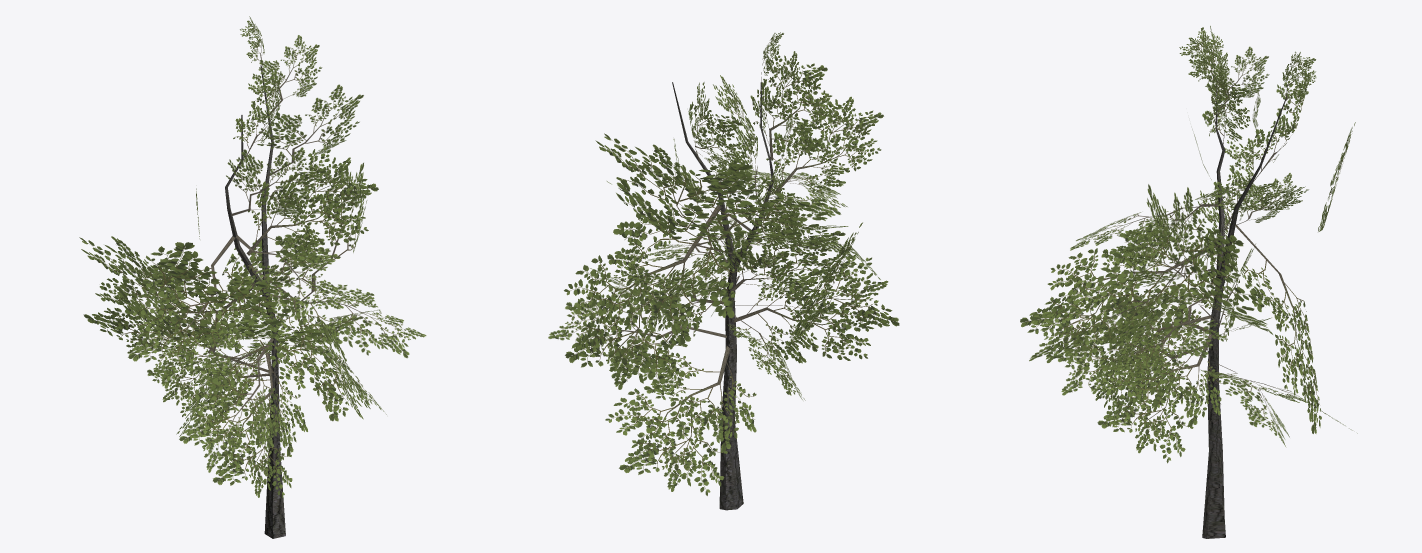
File: tree-07.glb
The picture shows the model from 3 angles, left to right: view 1: azimuth 30°, elevation 25°; view 2: azimuth 150°, elevation 25°; view 3: azimuth 270°, elevation 25°; orthographic projection. The views are drawn at different scales.
Visible parts, largest first — view 1: Tree-02-3; view 2: Tree-02-3; view 3: Tree-02-3.
Boxes of the visible parts, <box> form: Tree-02-3: <box>79,16,426,538</box>; Tree-02-3: <box>548,32,899,510</box>; Tree-02-3: <box>1020,26,1357,538</box>.
Bounding box in the file's own units: 5.57 × 6.85 × 5.27.
3 materials, 3 textured.
